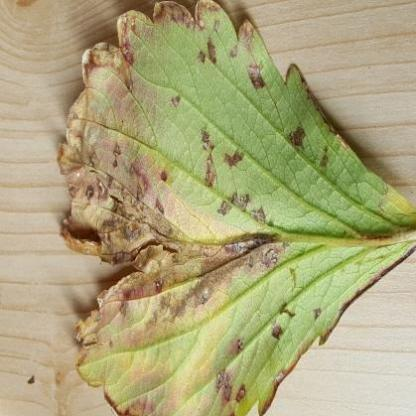Strawberry_Angular_LeafSpot: (54, 0, 415, 415)
